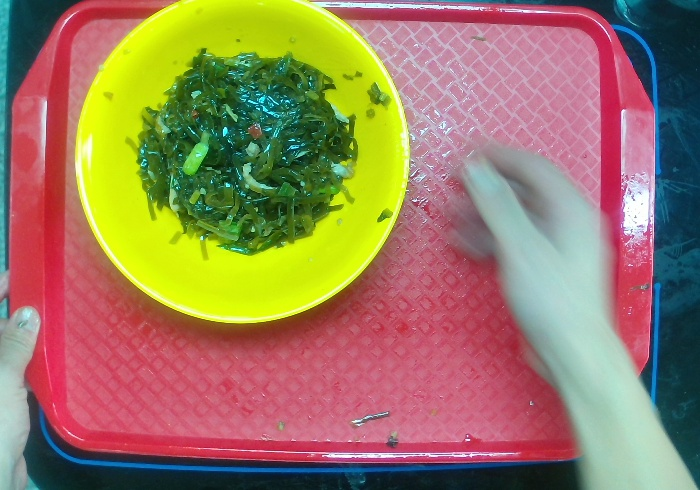YKMZ-Huang_Se_Tang_Wan: (72, 1, 414, 338)
